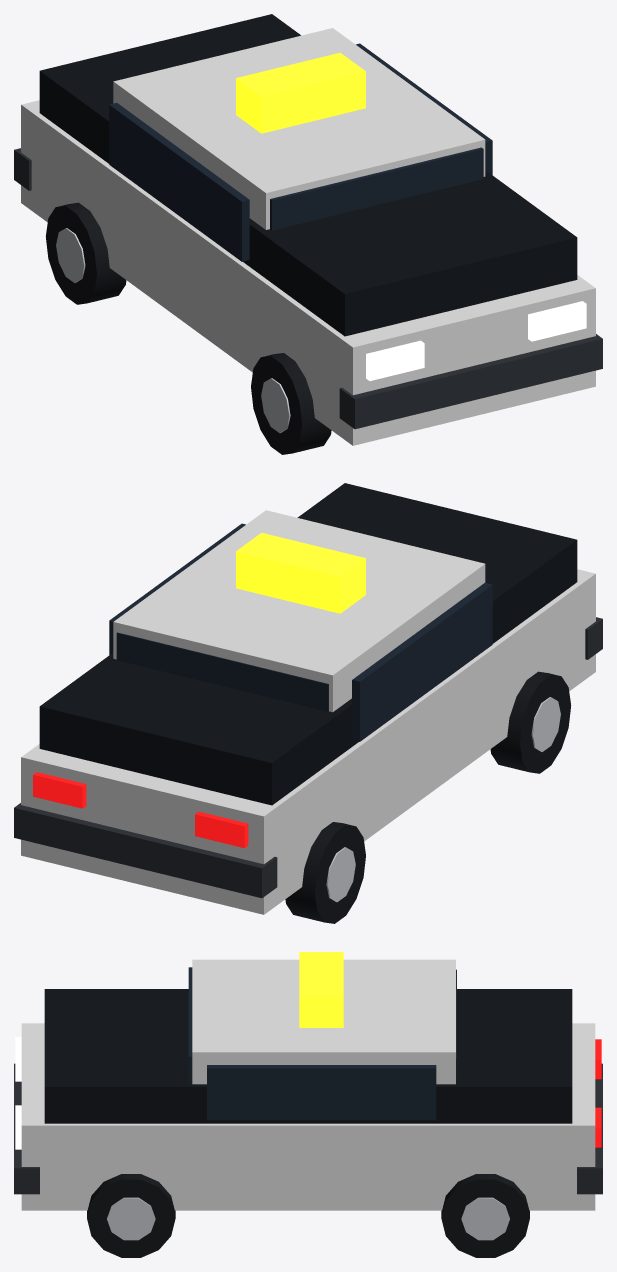
The model's file is taksi_bluebird.glb.
The picture shows the model from 3 angles, top to bottom: view 1: azimuth 30°, elevation 25°; view 2: azimuth 150°, elevation 25°; view 3: azimuth 270°, elevation 25°; orthographic projection. The views are drawn at different scales.
Parts seen in each view (by area): view 1: object 1, object 2, object 3, object 6, object 8, object 14, object 4, wheel_fl, wheel_rl, object 12, object 10, object 7 (+1 smaller); view 2: object 1, object 2, object 3, object 6, object 9, object 14, object 5, wheel_rl, wheel_fl, object 11, object 13, object 7 (+1 smaller); view 3: object 1, object 2, object 3, object 7, wheel_fr, wheel_rr, object 14, object 9, object 8, object 4.
Part boxes in pixels (x1,y1,x2,y2): object 1: (21,100,595,445); object 2: (39,14,577,336); object 3: (113,28,485,229); object 6: (109,103,249,261); object 8: (339,334,602,429); object 14: (236,52,365,133); object 4: (270,147,483,230); wheel_fl: (251,353,331,454); wheel_rl: (45,202,126,304); object 12: (528,301,586,341); object 10: (366,340,424,380); object 7: (356,43,492,174); object 1: (21,569,595,914); object 2: (39,483,577,805); object 3: (113,510,485,712); object 6: (352,583,492,741); object 9: (14,803,277,898); object 14: (236,532,365,613); object 5: (116,632,328,711); wheel_rl: (285,822,365,923); wheel_fl: (490,671,571,773); object 11: (195,811,248,848); object 13: (33,772,86,808); object 7: (109,523,245,654); object 1: (21,1023,595,1210); object 2: (44,989,572,1123); object 3: (192,959,455,1084); object 7: (207,1065,436,1120); wheel_fr: (87,1174,175,1257); wheel_rr: (441,1174,529,1257); object 14: (299,952,343,1027); object 9: (577,1063,602,1194); object 8: (14,1063,39,1194); object 4: (188,967,192,1082).
Size of the model in its own units: 2.08 by 1.92 by 4.52.
